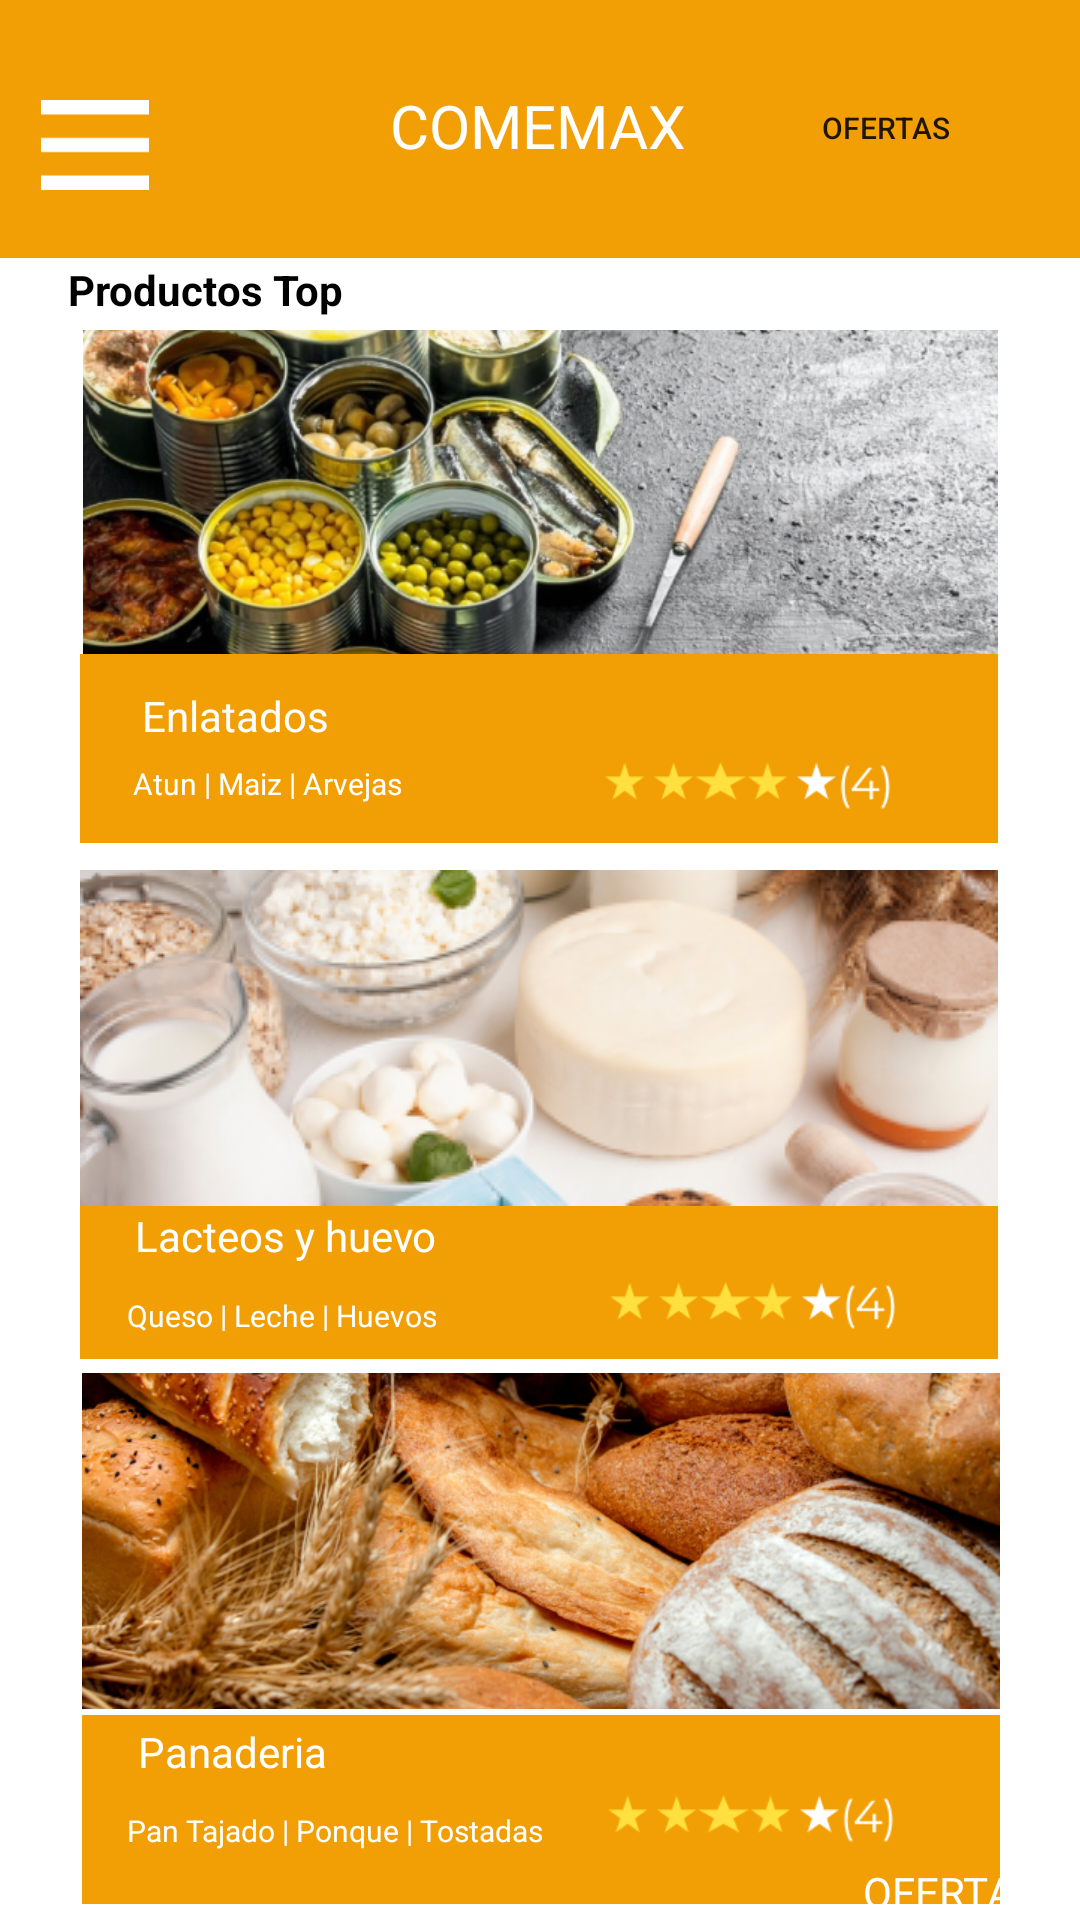

Screen size 1080x1920. Icon name, then its box in pixels as BBox(x1, y1, x2, y2):
hamburguesa: BBox(41, 100, 149, 190)
